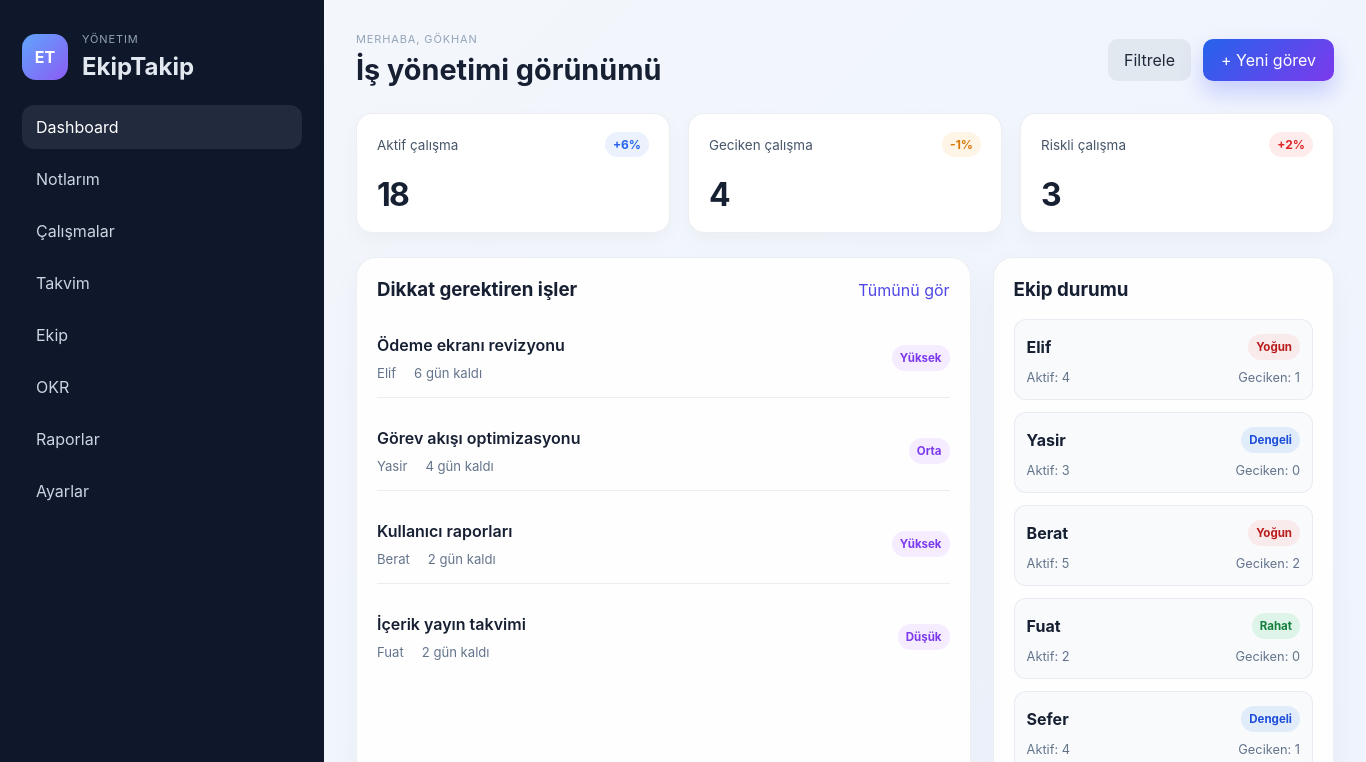
it: renders notes page with completed filter and completion metadata
The width and height of the screenshot is (1366, 762).
Expected: the heading "EkipTakip" is shown, [82,52,194,81]
Click the button "Notlarım" at (68, 179), box [22,157,302,201]
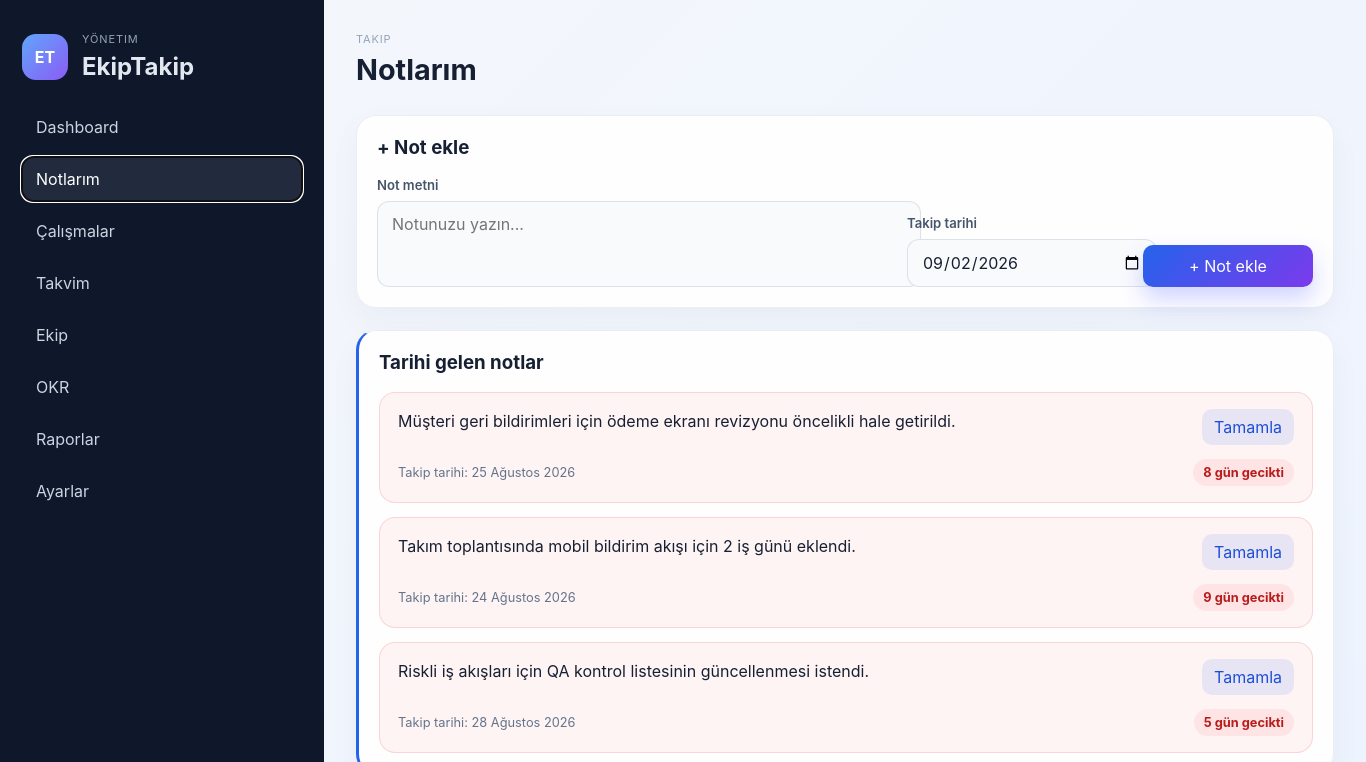
Now the heading "Tarihi gelen notlar" is shown, box [379,351,544,374]
Now the text box labelled "Not metni" is shown, box [377,201,921,287]
Now the date field labelled "Takip tarihi" is shown, box [907,239,1157,287]
Click the 1st button "Tamamla" at (1248, 427), box [1202,409,1294,445]
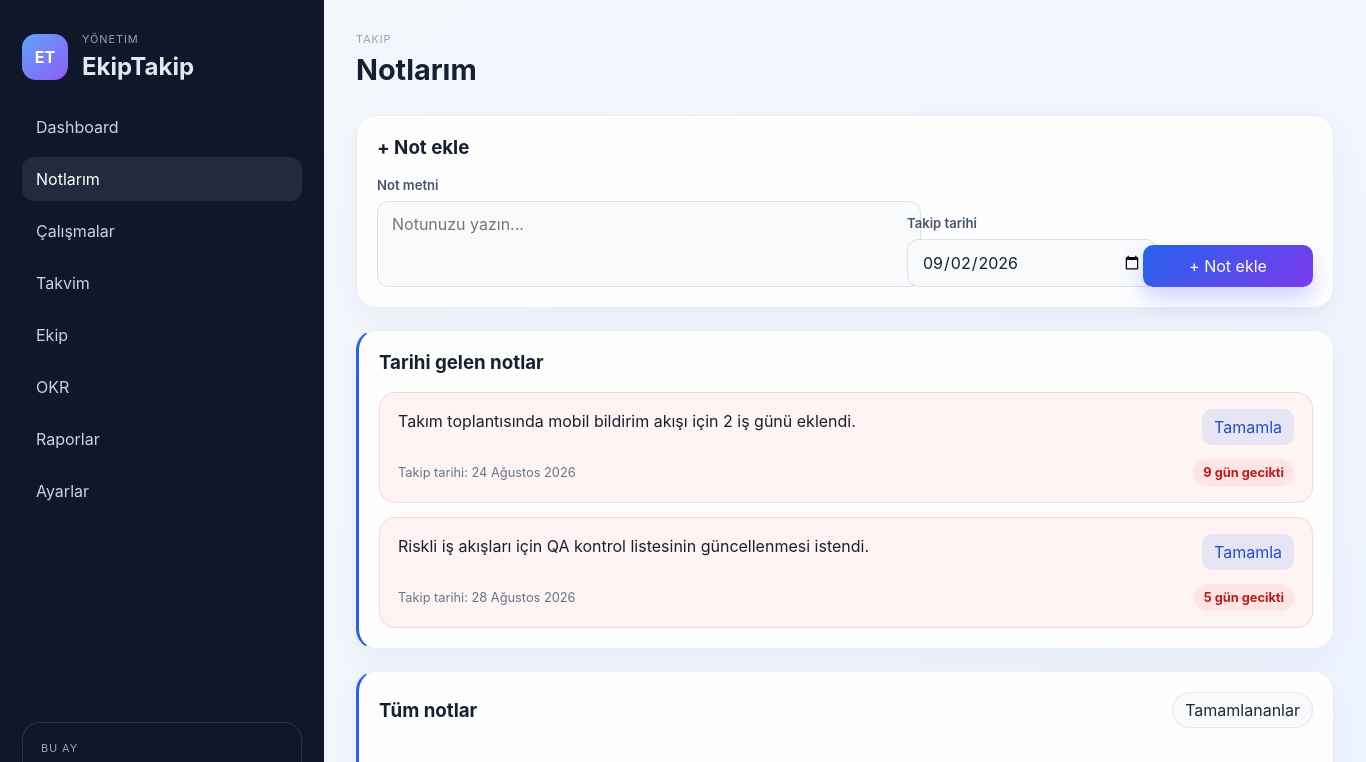
Click the button "Tamamlananlar" at (1243, 710), box [1172,692,1313,728]
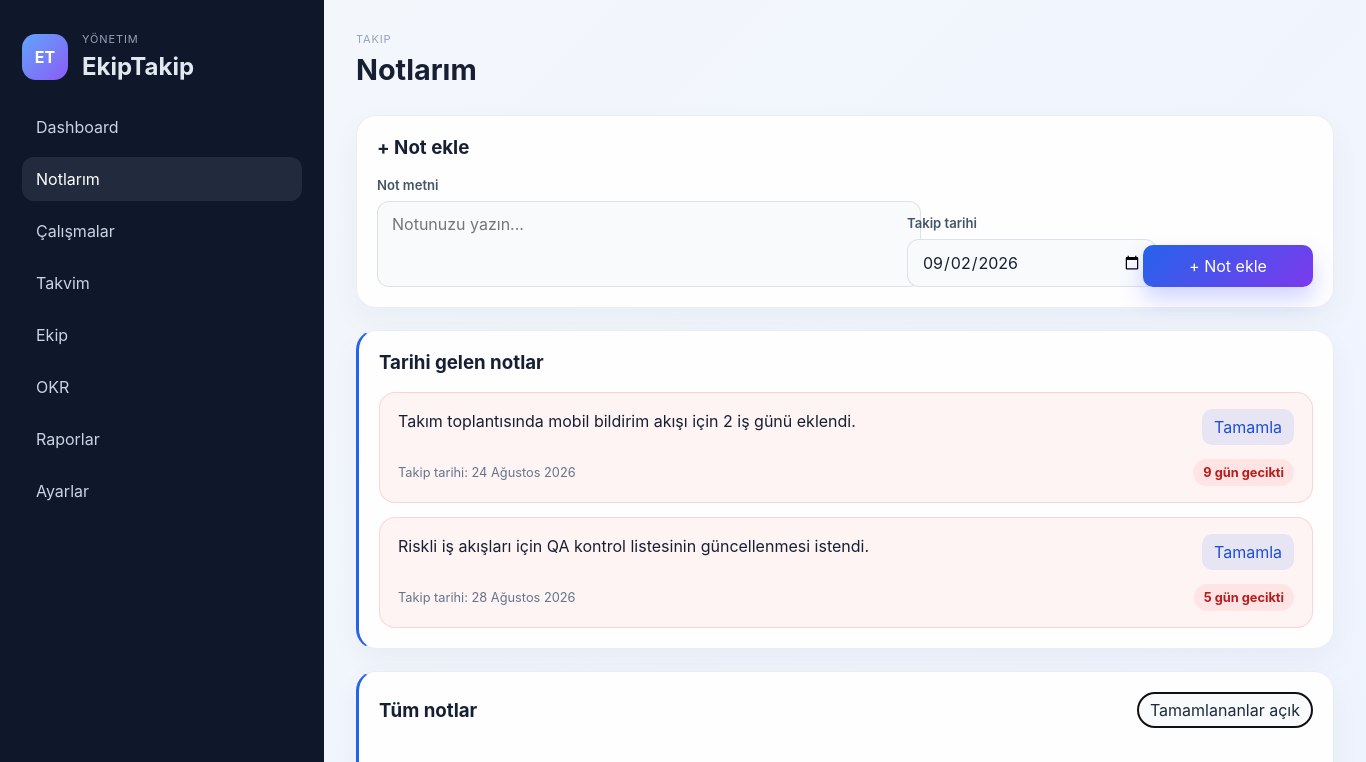
Type "Yeni takip notu" into the text box labelled "Not metni" at (649, 244), box [377,201,921,287]
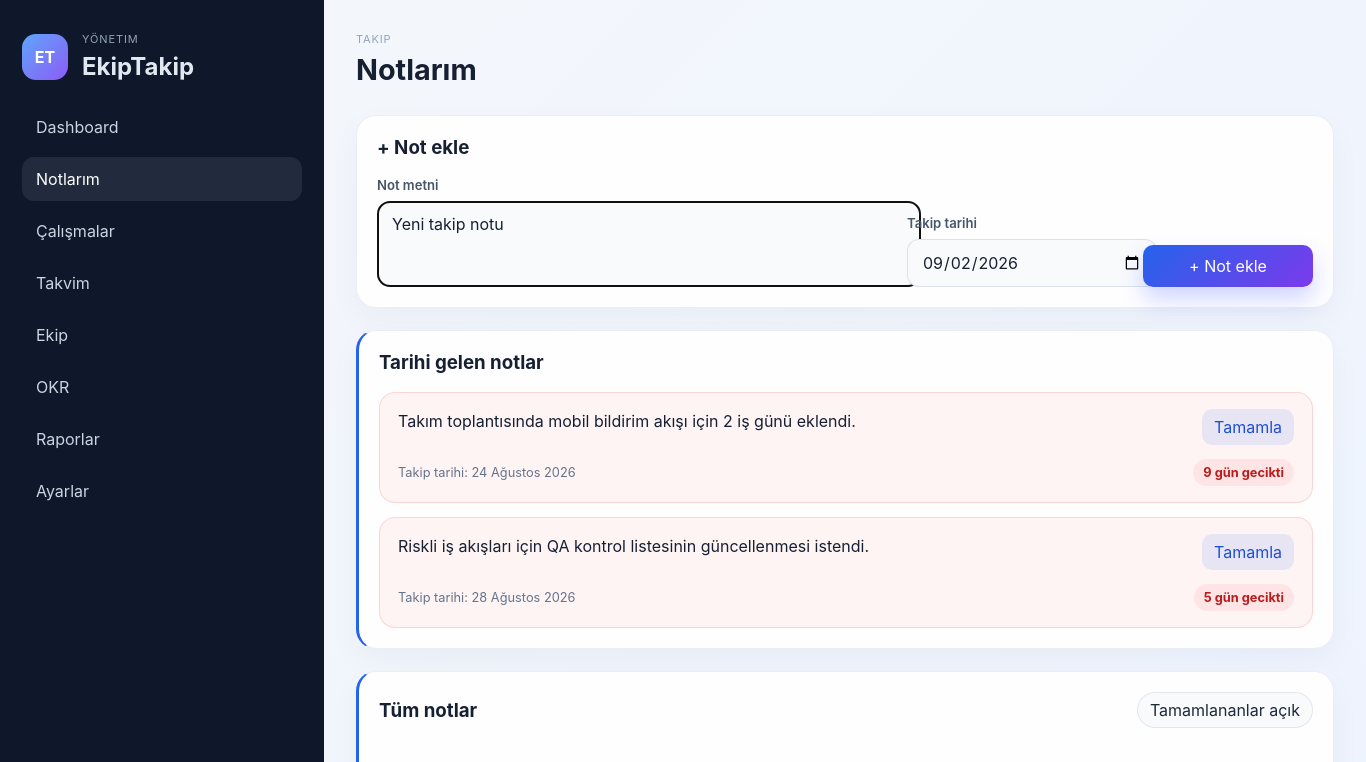
Click the button "+ Not ekle" at (1228, 266), box [1143,245,1313,287]
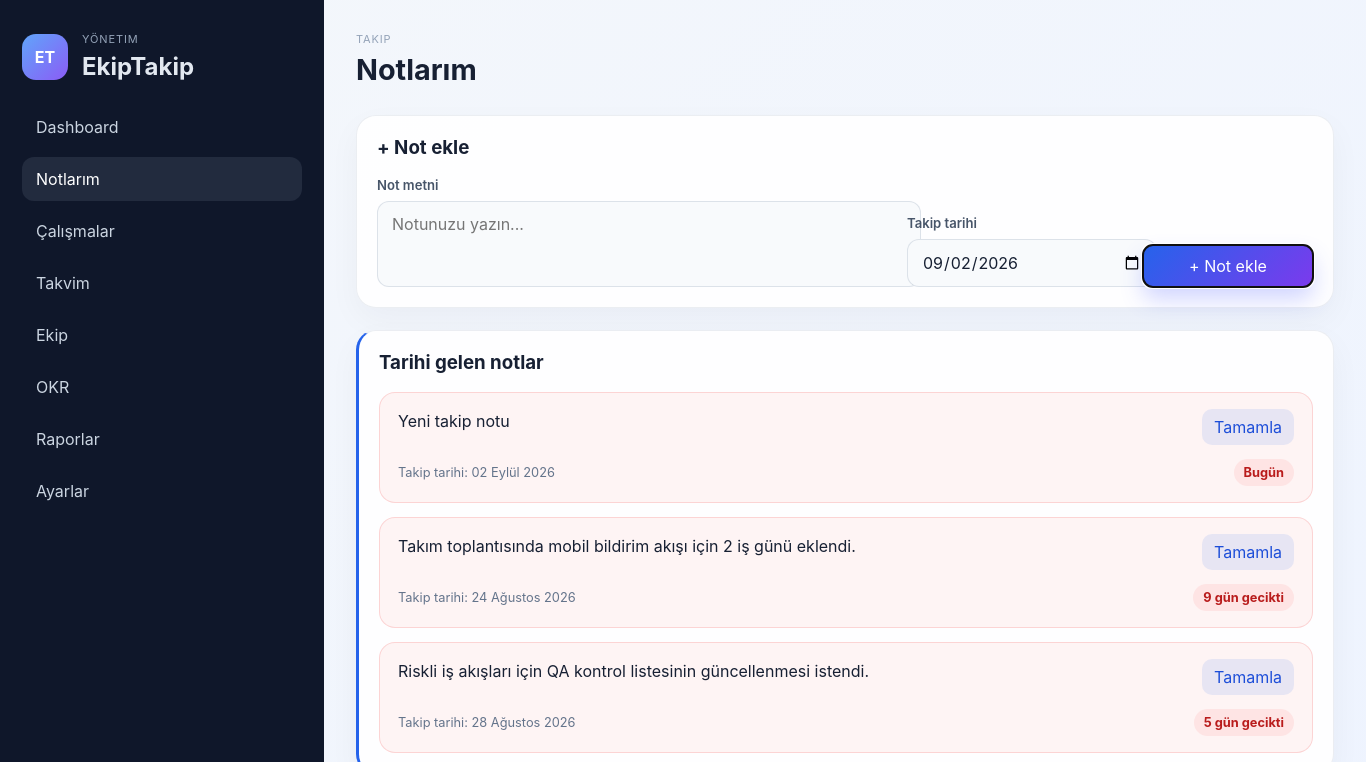
Now the text "Yeni takip notu" is shown, box [398,411,510,431]
